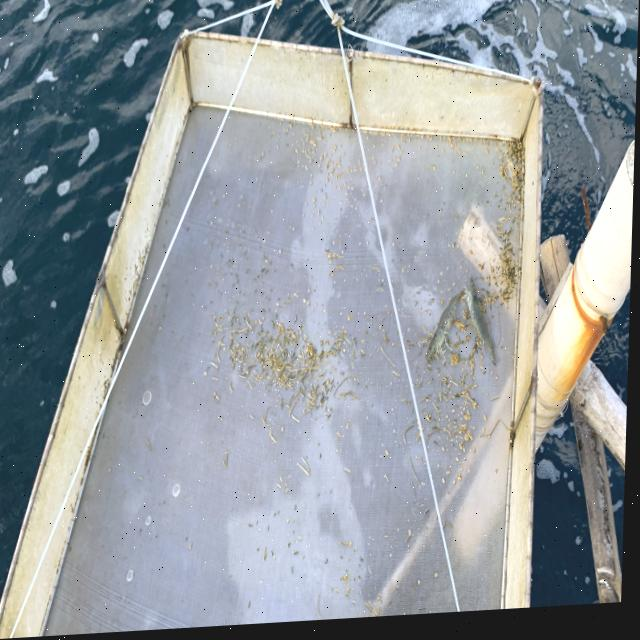Shrimp feeds: (311, 142, 318, 151), (339, 175, 344, 183), (354, 171, 359, 177), (306, 168, 310, 175), (340, 203, 344, 210), (280, 487, 285, 492), (343, 155, 347, 161), (347, 172, 351, 178), (396, 167, 400, 173), (302, 539, 306, 544), (379, 180, 383, 185), (349, 427, 352, 433), (339, 167, 342, 173), (327, 181, 330, 187), (345, 186, 348, 192), (346, 195, 349, 201), (325, 198, 328, 204), (374, 164, 377, 170), (325, 156, 328, 161), (329, 136, 332, 141)
